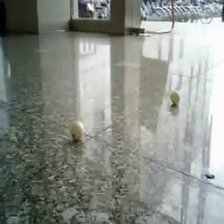w: (70, 121, 83, 140), (169, 91, 181, 104)
